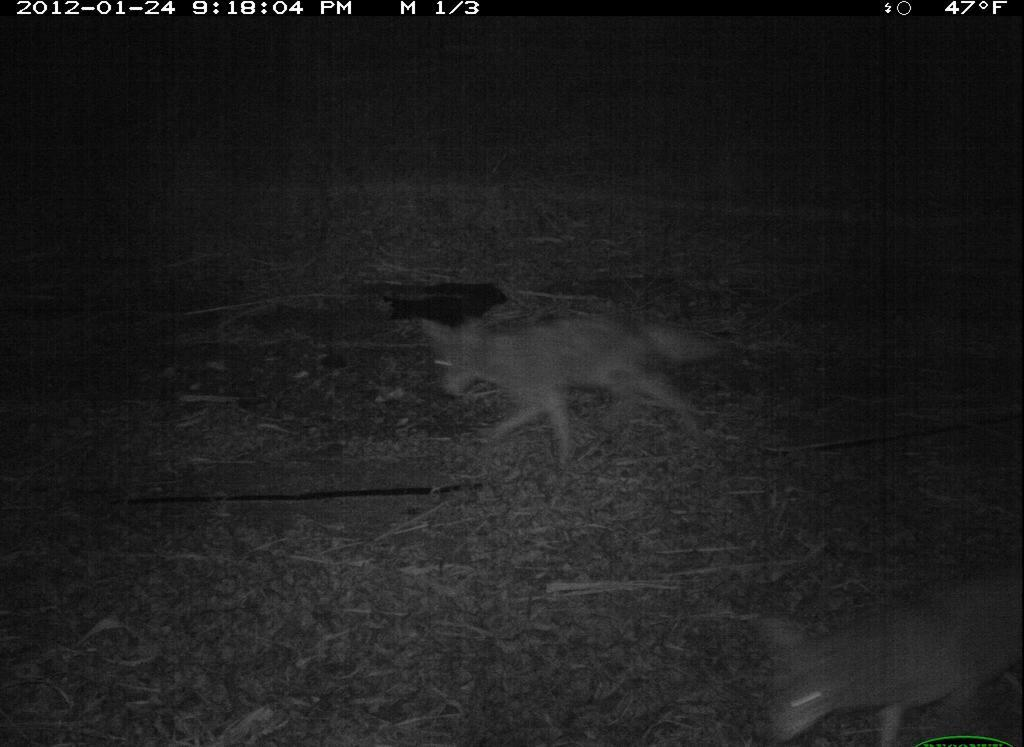coyote: (428, 282, 729, 472)
